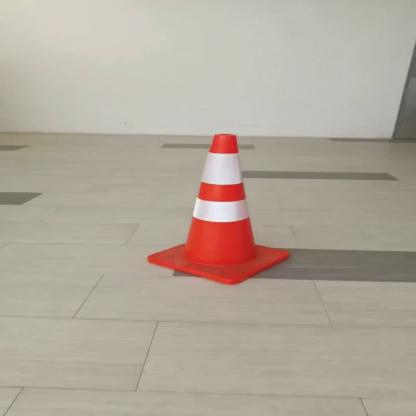cone: (148, 134, 287, 286)
